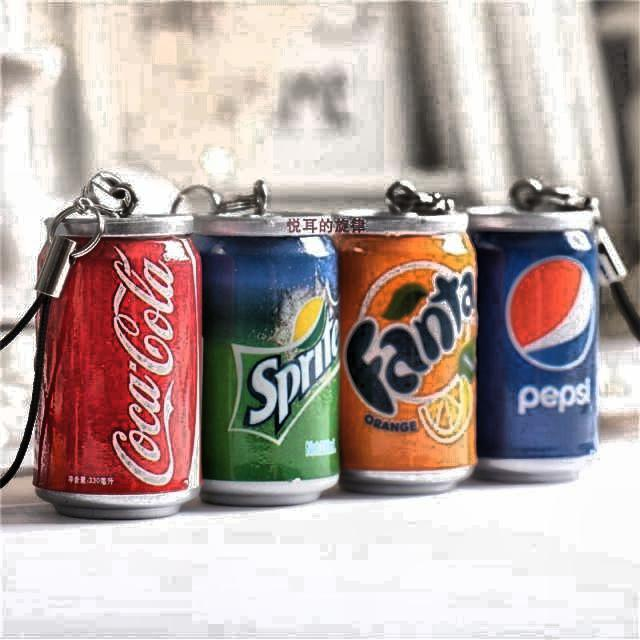can: (34, 207, 206, 516), (186, 202, 343, 507), (331, 196, 482, 491), (459, 201, 601, 478)
